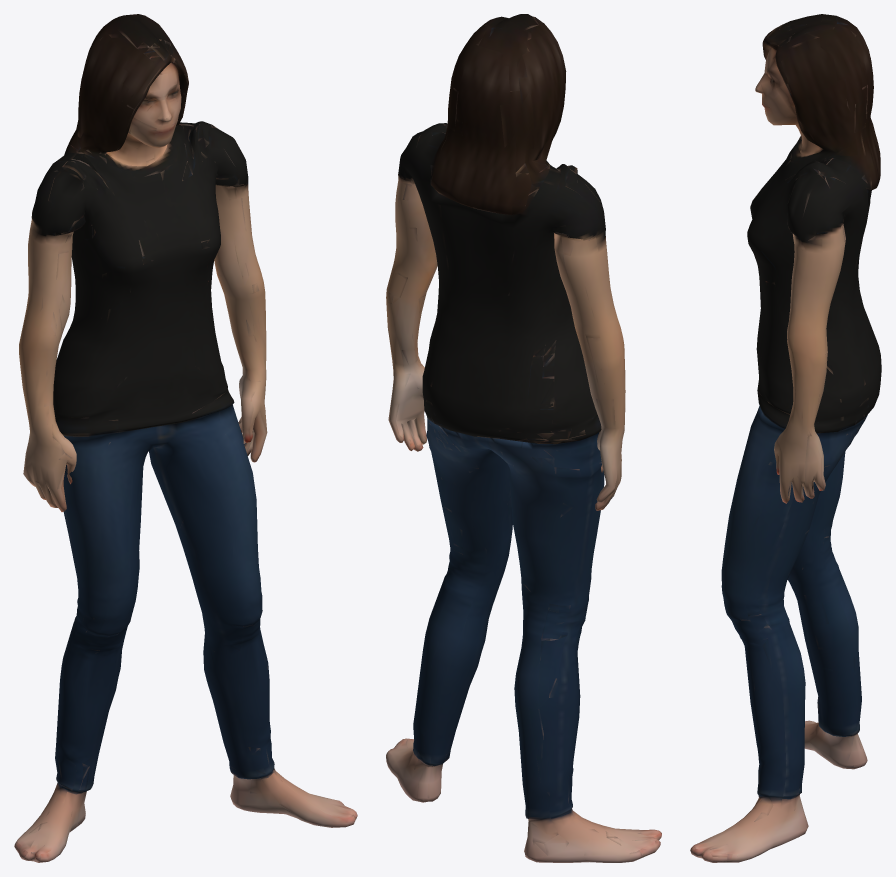
Rendered from wanita_lain_idle.glb.
3 views of the same model, side by side, from view 1: azimuth 30°, elevation 25°; view 2: azimuth 150°, elevation 25°; view 3: azimuth 270°, elevation 25° (orthographic). The views are drawn at different scales.
Visible parts, largest first — view 1: tripo_node_25841f66; view 2: tripo_node_25841f66; view 3: tripo_node_25841f66.
Part boxes in pixels (x1,y1,x2,y2): tripo_node_25841f66: [14, 14, 357, 862]; tripo_node_25841f66: [386, 14, 661, 862]; tripo_node_25841f66: [690, 14, 881, 862].
Bounding box in the file's own units: 39.4 × 102 × 22.89.
Materials: 1 (1 with a texture image).
